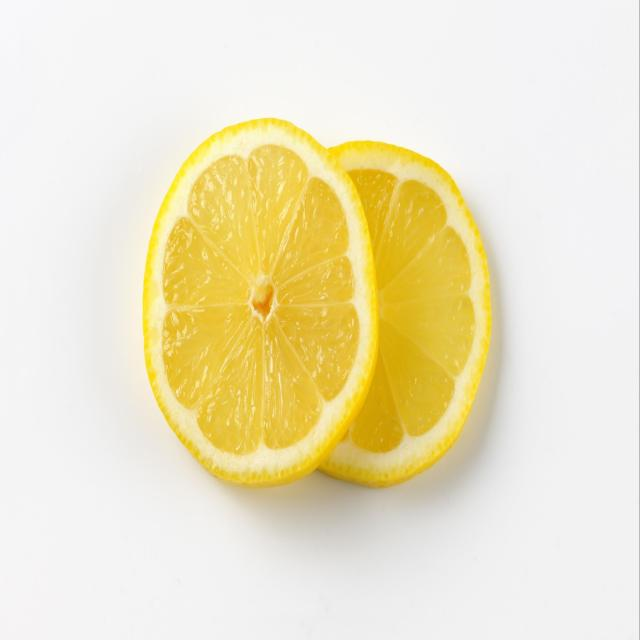lemon: (139, 112, 384, 494)
